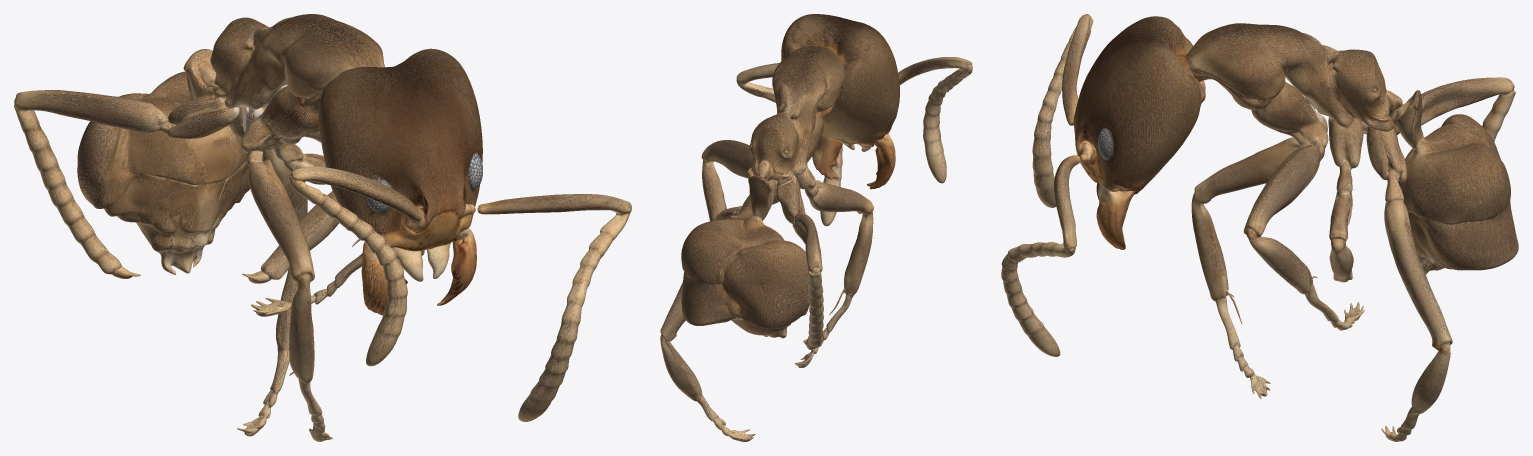
The model's file is esp3.glb.
3 views of the same model, side by side, from view 1: azimuth 30°, elevation 25°; view 2: azimuth 150°, elevation 25°; view 3: azimuth 270°, elevation 25° (orthographic). The views are drawn at different scales.
Size of the model in its own units: 1.35 by 1.67 by 1.9.
1 material, 1 textured.
